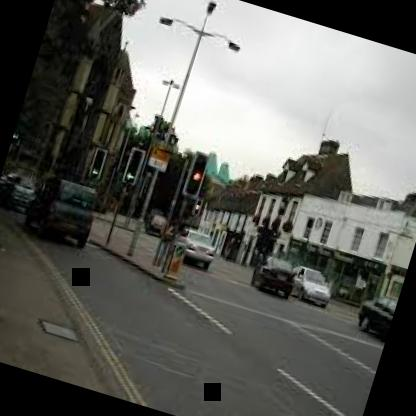car: (16, 160, 121, 267), (270, 241, 342, 334), (158, 213, 230, 282), (236, 240, 304, 313), (350, 267, 404, 354), (0, 147, 52, 219), (137, 202, 176, 244)
